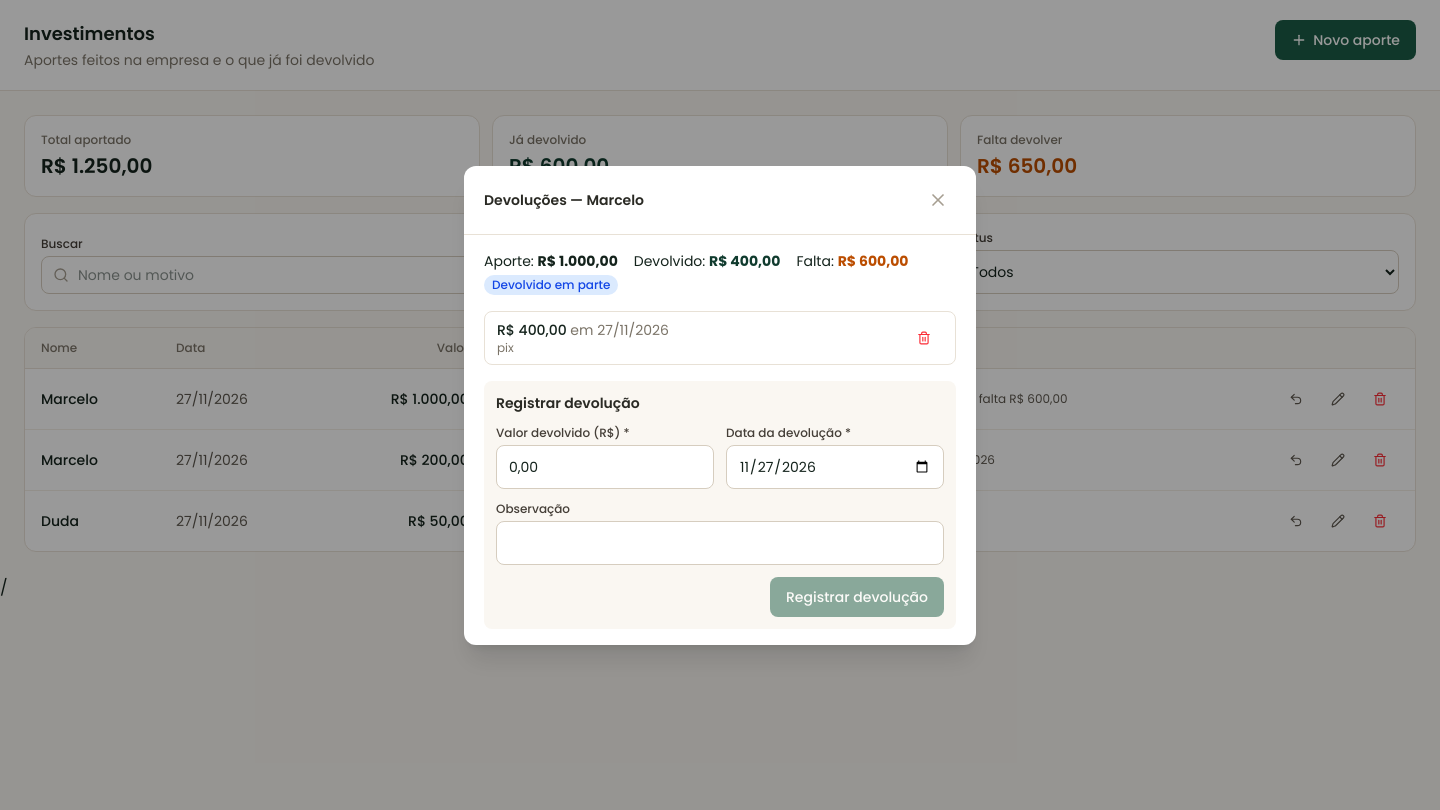
Investimentos › devoluções: registrar, validar, erro e excluir
Earlier steps of the test are not shown.
Later steps or results of the test are not shown.
Expected: the button "Registrar devolução" is disabled, [770,576,944,616]
Type "60000" into the field below "Valor devolvido (R$) *" at (605, 466), box [496,444,714,488]
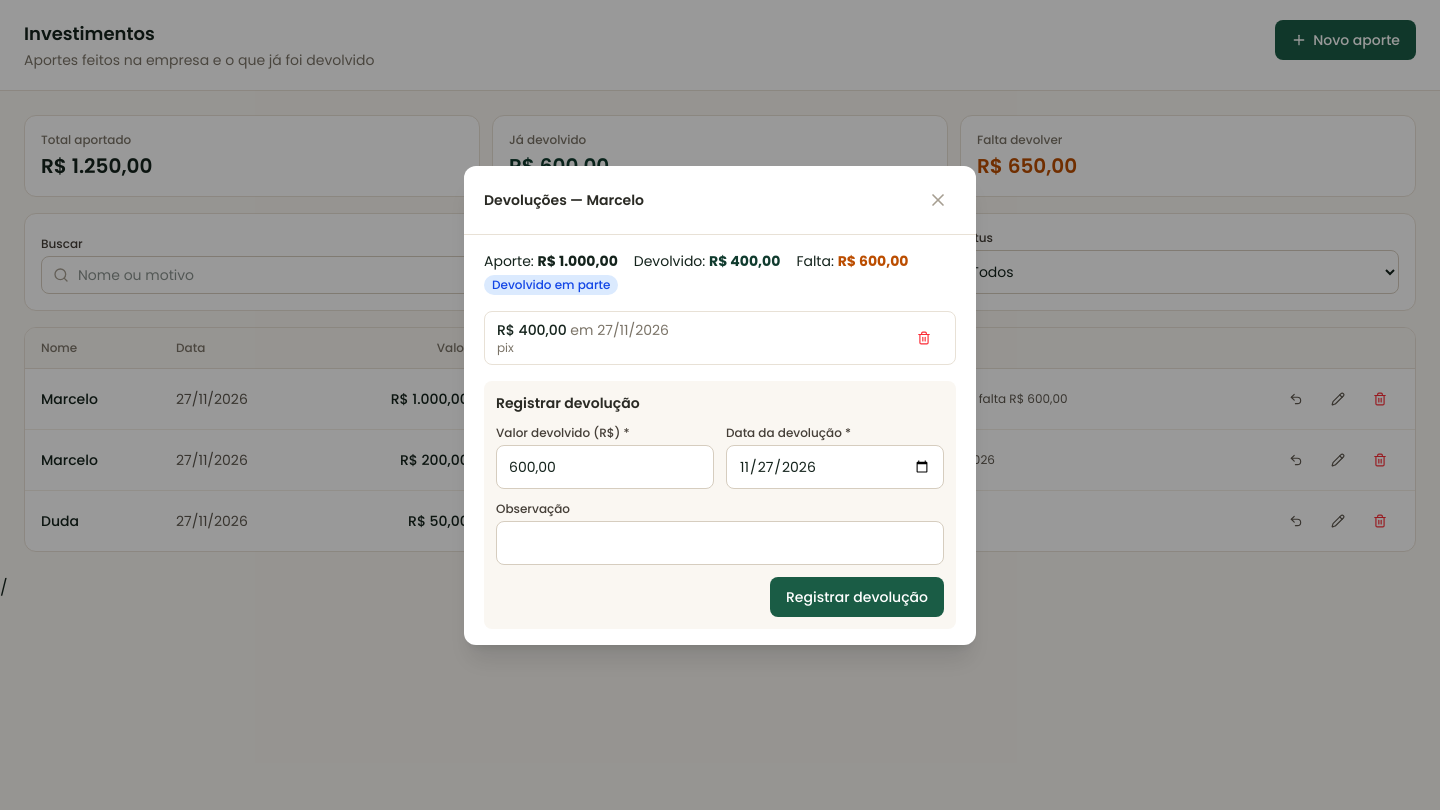
Type "2026-11-18" into the date field at (835, 466), box [726,444,944,488]
Type "transferência" into the field below "Observação" at (720, 542), box [496,520,944,564]
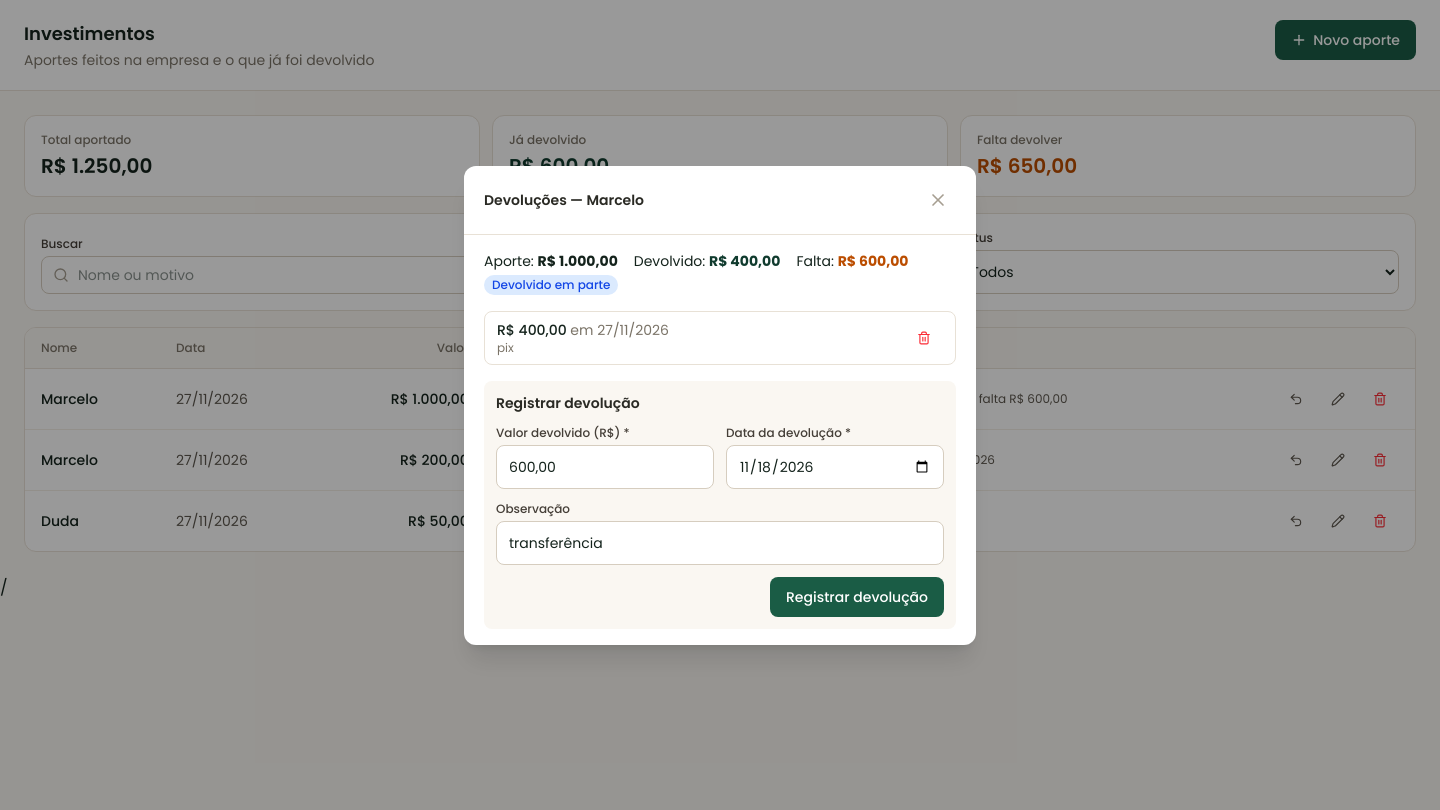
Click the button "Registrar devolução" at (857, 596), box [770,576,944,616]
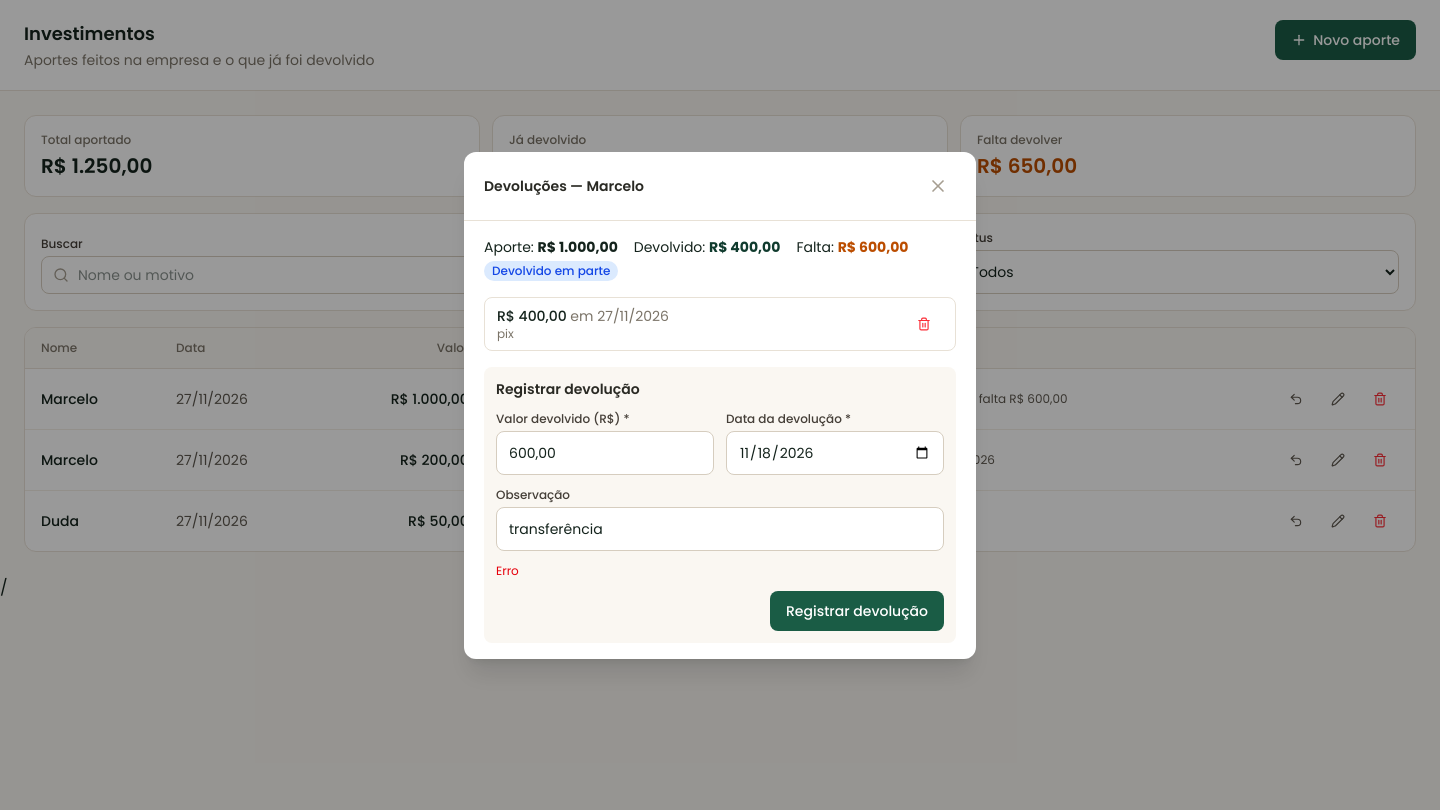
Result: the text "Erro" is shown at [496,562,519,578]
Click the button "Registrar devolução" at (857, 610), box [770,590,944,630]
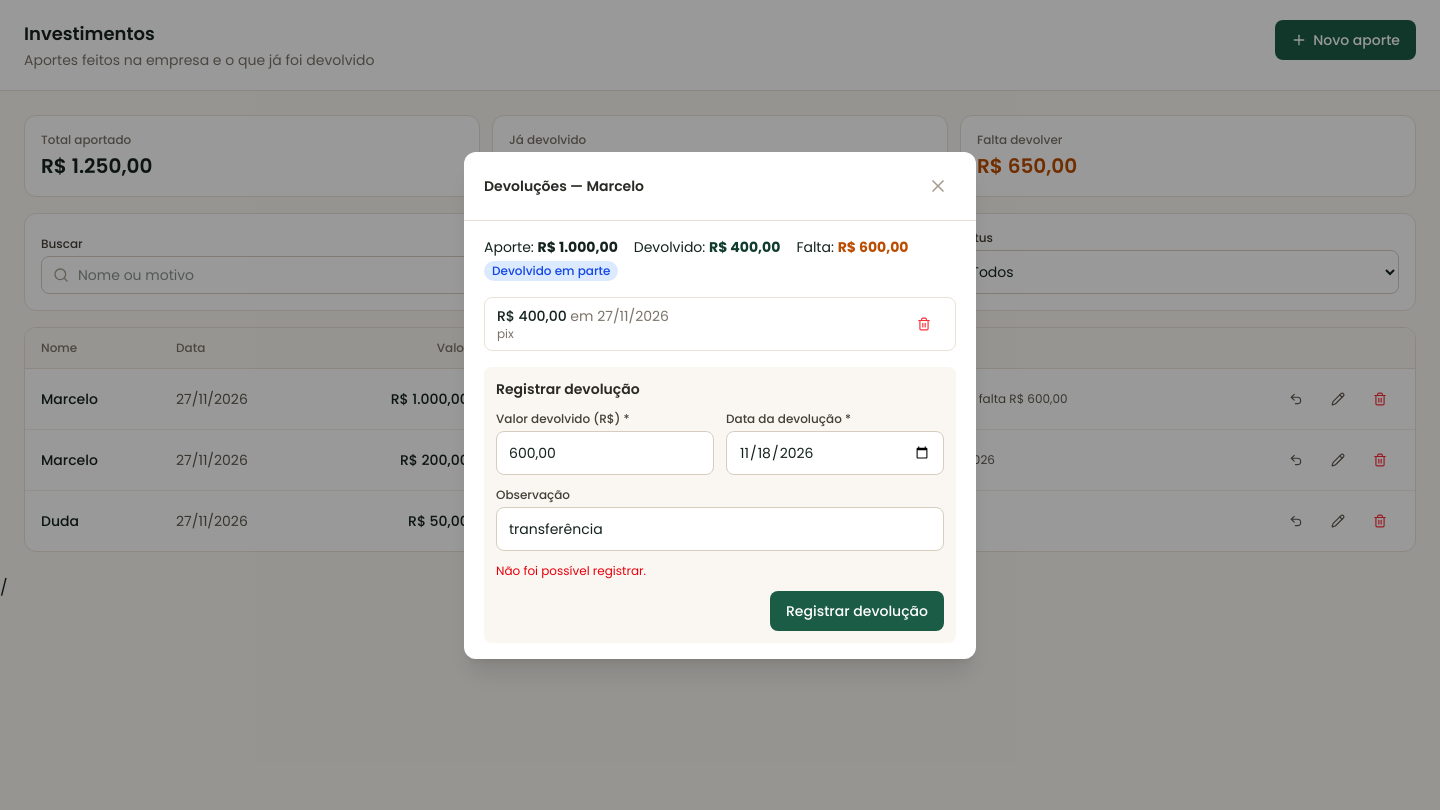
Result: the text "Não foi possível registrar." is shown at [496,562,646,578]
Click the button "Registrar devolução" at (857, 610), box [770,590,944,630]
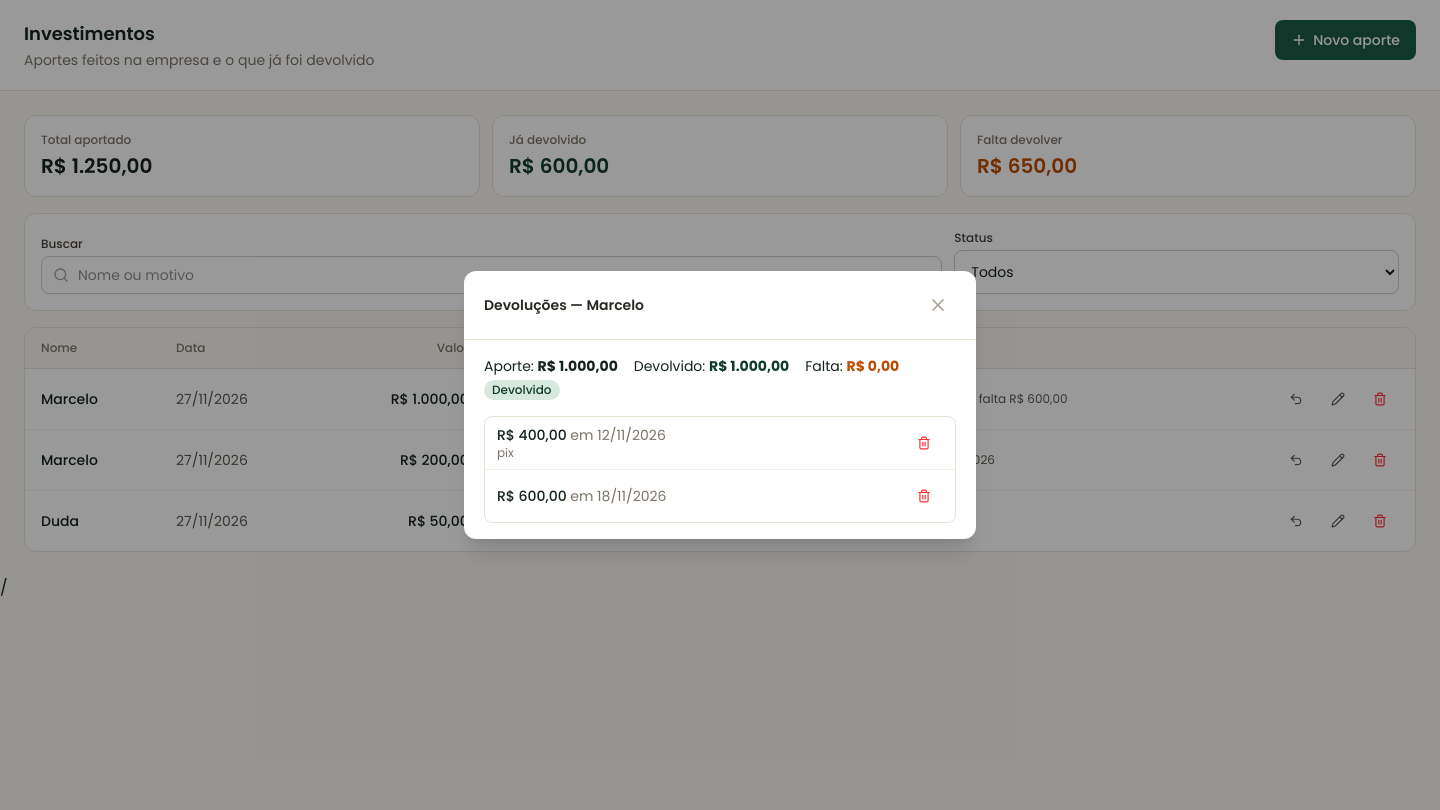
Result: the text "Registrar devolução" is gone
Click the button named "Excluir devolução" in the row of "12/11/2026" at (924, 443), box [905,425,943,461]
Click the button named "Excluir devolução" in the row of "12/11/2026" at (924, 443), box [905,425,943,461]
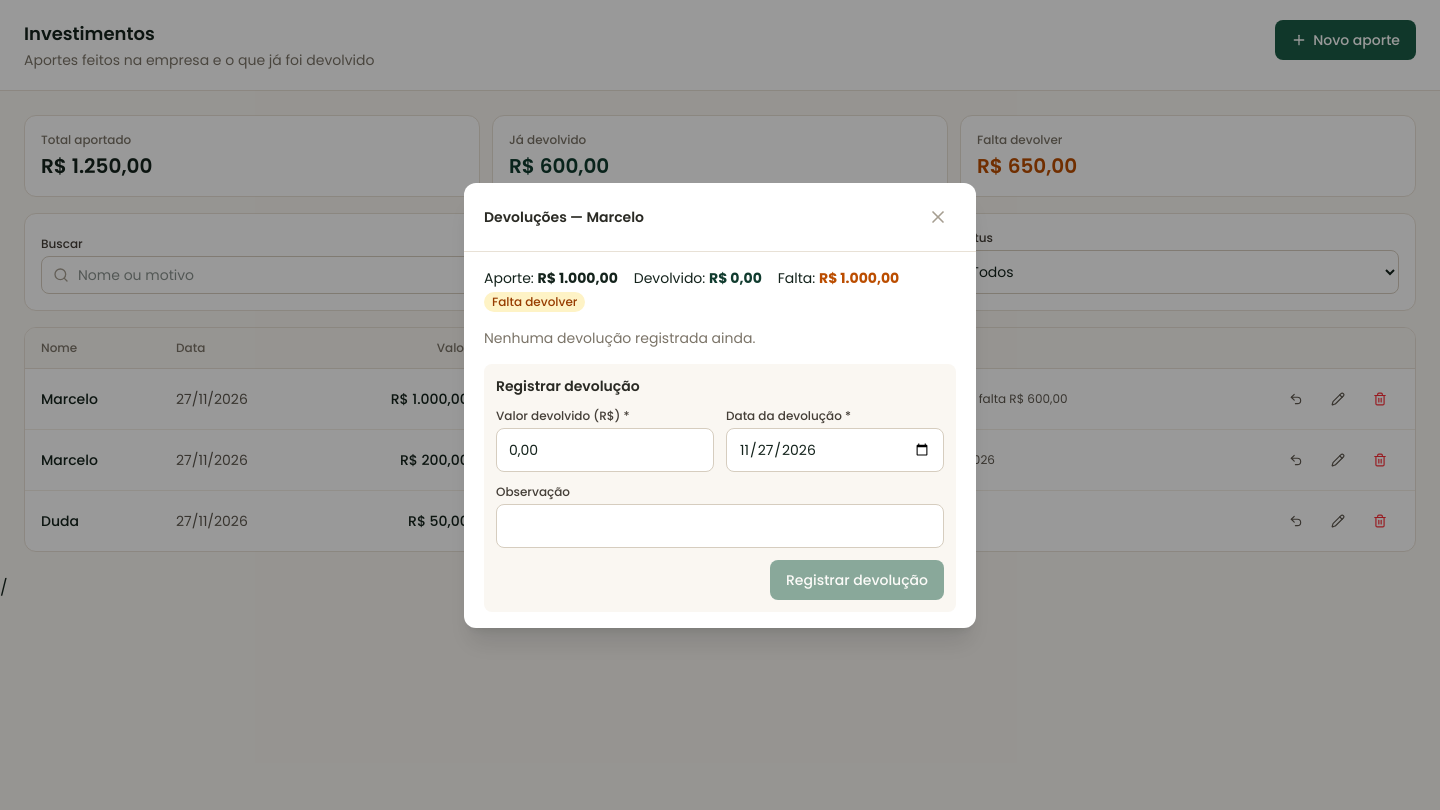
Result: the text "Nenhuma devolução registrada ainda." is shown at [484,328,755,348]
